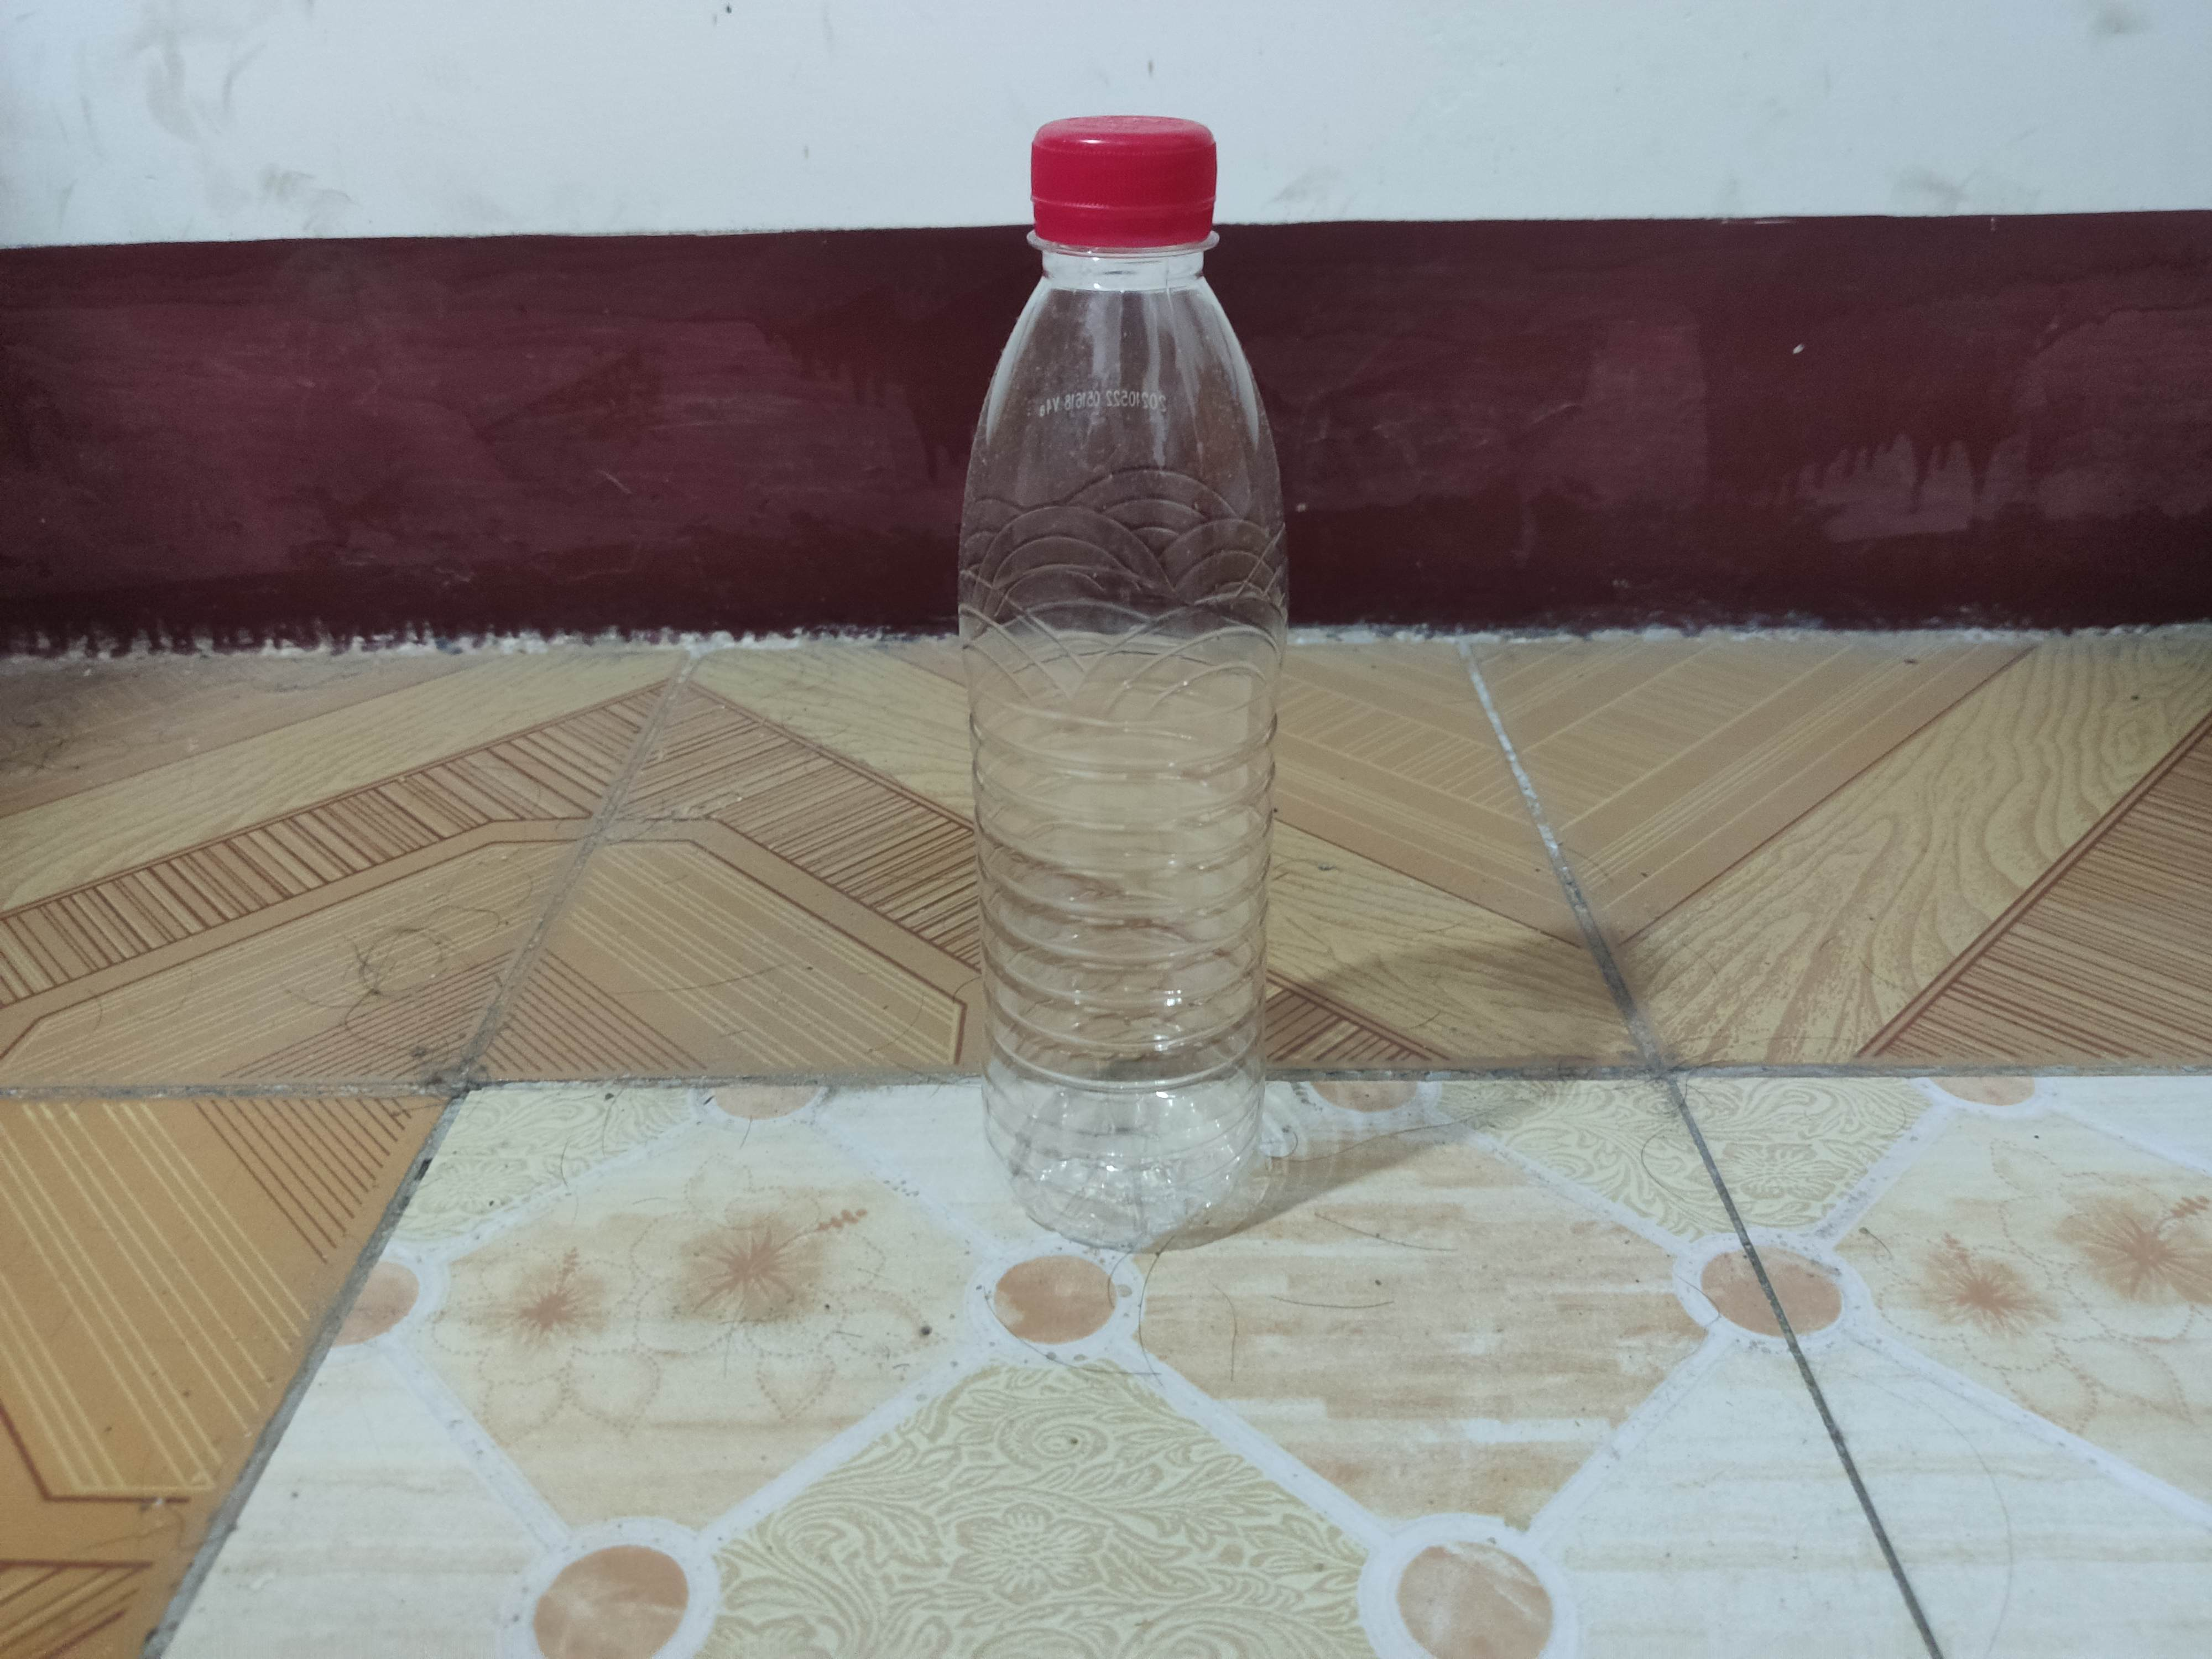Plastic Bottle: (954, 112, 1296, 1258)
